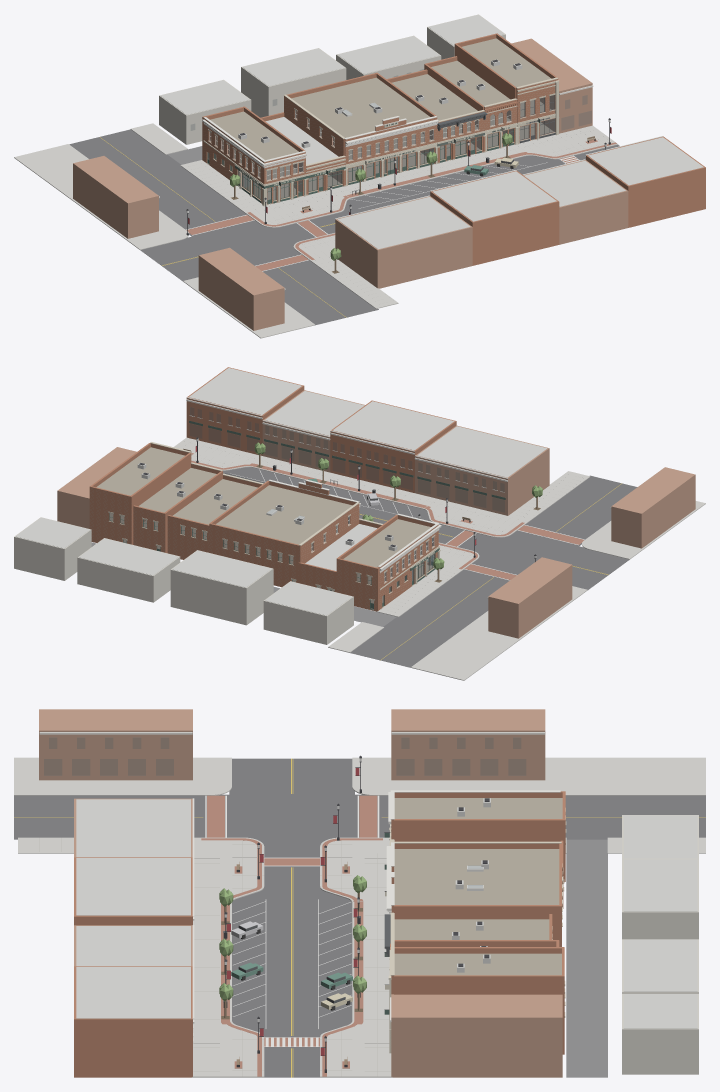
File: clay-inglewood-main-street-clay-v002.glb
3 renders of one model, top to bottom at view 1: azimuth 30°, elevation 25°; view 2: azimuth 150°, elevation 25°; view 3: azimuth 270°, elevation 25°, orthographic. The views are drawn at different scales.
Parts seen in each view (by area): view 1: CLAY_WALL, CLAY_MEMBRANE, CLAY_NEIGHBOUR, CLAY_ASPHALT, CLAY_CONCRETE, CLAY_ROOF, CLAY_CONTEXT, CLAY_GLASS, CLAY_STONE, CLAY_WHITE, CLAY_FLOOR, CLAY_PAVER (+6 smaller); view 2: CLAY_WALL, CLAY_MEMBRANE, CLAY_NEIGHBOUR, CLAY_ASPHALT, CLAY_CONCRETE, CLAY_CONTEXT, CLAY_ROOF, CLAY_GLASS, CLAY_WHITE, CLAY_PAVER, CLAY_STONE, CLAY_FRAME (+3 smaller); view 3: CLAY_MEMBRANE, CLAY_ASPHALT, CLAY_NEIGHBOUR, CLAY_CONCRETE, CLAY_WALL, CLAY_ROOF, CLAY_LANE, CLAY_CONTEXT, CLAY_PAVER, CLAY_GLASS, CLAY_WHITE, CLAY_MARKING (+6 smaller).
Boxes of the visible parts, x1=… form: CLAY_WALL: x1=202, y1=33, x2=705, y2=265; CLAY_MEMBRANE: x1=160, y1=15, x2=703, y2=249; CLAY_NEIGHBOUR: x1=73, y1=38, x2=628, y2=330; CLAY_ASPHALT: x1=69, y1=129, x2=619, y2=325; CLAY_CONCRETE: x1=14, y1=123, x2=618, y2=338; CLAY_ROOF: x1=210, y1=38, x2=550, y2=160; CLAY_CONTEXT: x1=159, y1=14, x2=505, y2=144; CLAY_GLASS: x1=191, y1=69, x2=591, y2=199; CLAY_STONE: x1=203, y1=77, x2=559, y2=206; CLAY_WHITE: x1=159, y1=85, x2=663, y2=289; CLAY_FLOOR: x1=210, y1=100, x2=553, y2=199; CLAY_PAVER: x1=186, y1=139, x2=616, y2=270; CLAY_WALL: x1=89, y1=367, x2=456, y2=611; CLAY_MEMBRANE: x1=15, y1=368, x2=547, y2=615; CLAY_NEIGHBOUR: x1=57, y1=390, x2=695, y2=638; CLAY_ASPHALT: x1=223, y1=467, x2=637, y2=667; CLAY_CONCRETE: x1=173, y1=437, x2=705, y2=680; CLAY_CONTEXT: x1=14, y1=517, x2=353, y2=644; CLAY_ROOF: x1=96, y1=447, x2=430, y2=567; CLAY_GLASS: x1=110, y1=407, x2=504, y2=609; CLAY_WHITE: x1=186, y1=397, x2=611, y2=598; CLAY_PAVER: x1=191, y1=453, x2=584, y2=579; CLAY_STONE: x1=108, y1=442, x2=440, y2=607; CLAY_FRAME: x1=109, y1=420, x2=505, y2=610; CLAY_MEMBRANE: x1=76, y1=798, x2=697, y2=1028; CLAY_ASPHALT: x1=14, y1=758, x2=705, y2=1077; CLAY_NEIGHBOUR: x1=39, y1=709, x2=562, y2=1077; CLAY_CONCRETE: x1=14, y1=757, x2=705, y2=1077; CLAY_WALL: x1=74, y1=791, x2=565, y2=1077; CLAY_ROOF: x1=394, y1=798, x2=562, y2=975; CLAY_LANE: x1=566, y1=839, x2=607, y2=1077; CLAY_CONTEXT: x1=622, y1=815, x2=698, y2=1074; CLAY_PAVER: x1=201, y1=795, x2=382, y2=1076; CLAY_GLASS: x1=44, y1=737, x2=525, y2=887; CLAY_WHITE: x1=39, y1=732, x2=560, y2=1041; CLAY_MARKING: x1=205, y1=795, x2=379, y2=1046.
Bounding box in the file's own units: 108 × 12.54 × 99.
